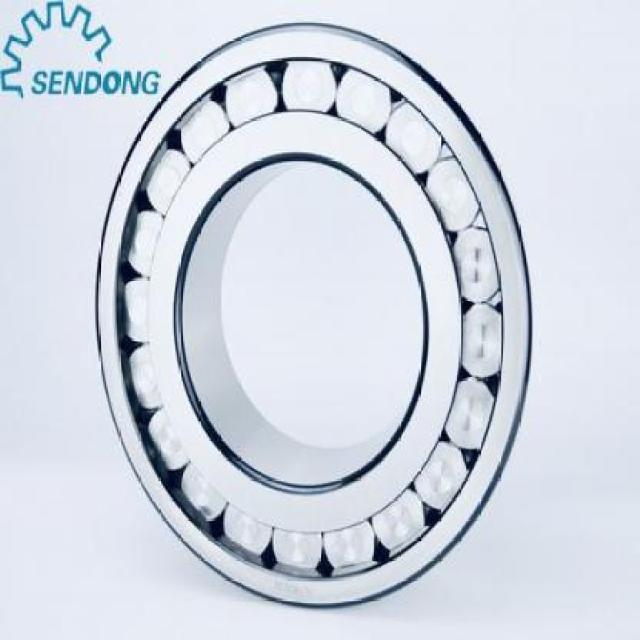Bearing: (88, 23, 533, 611)
